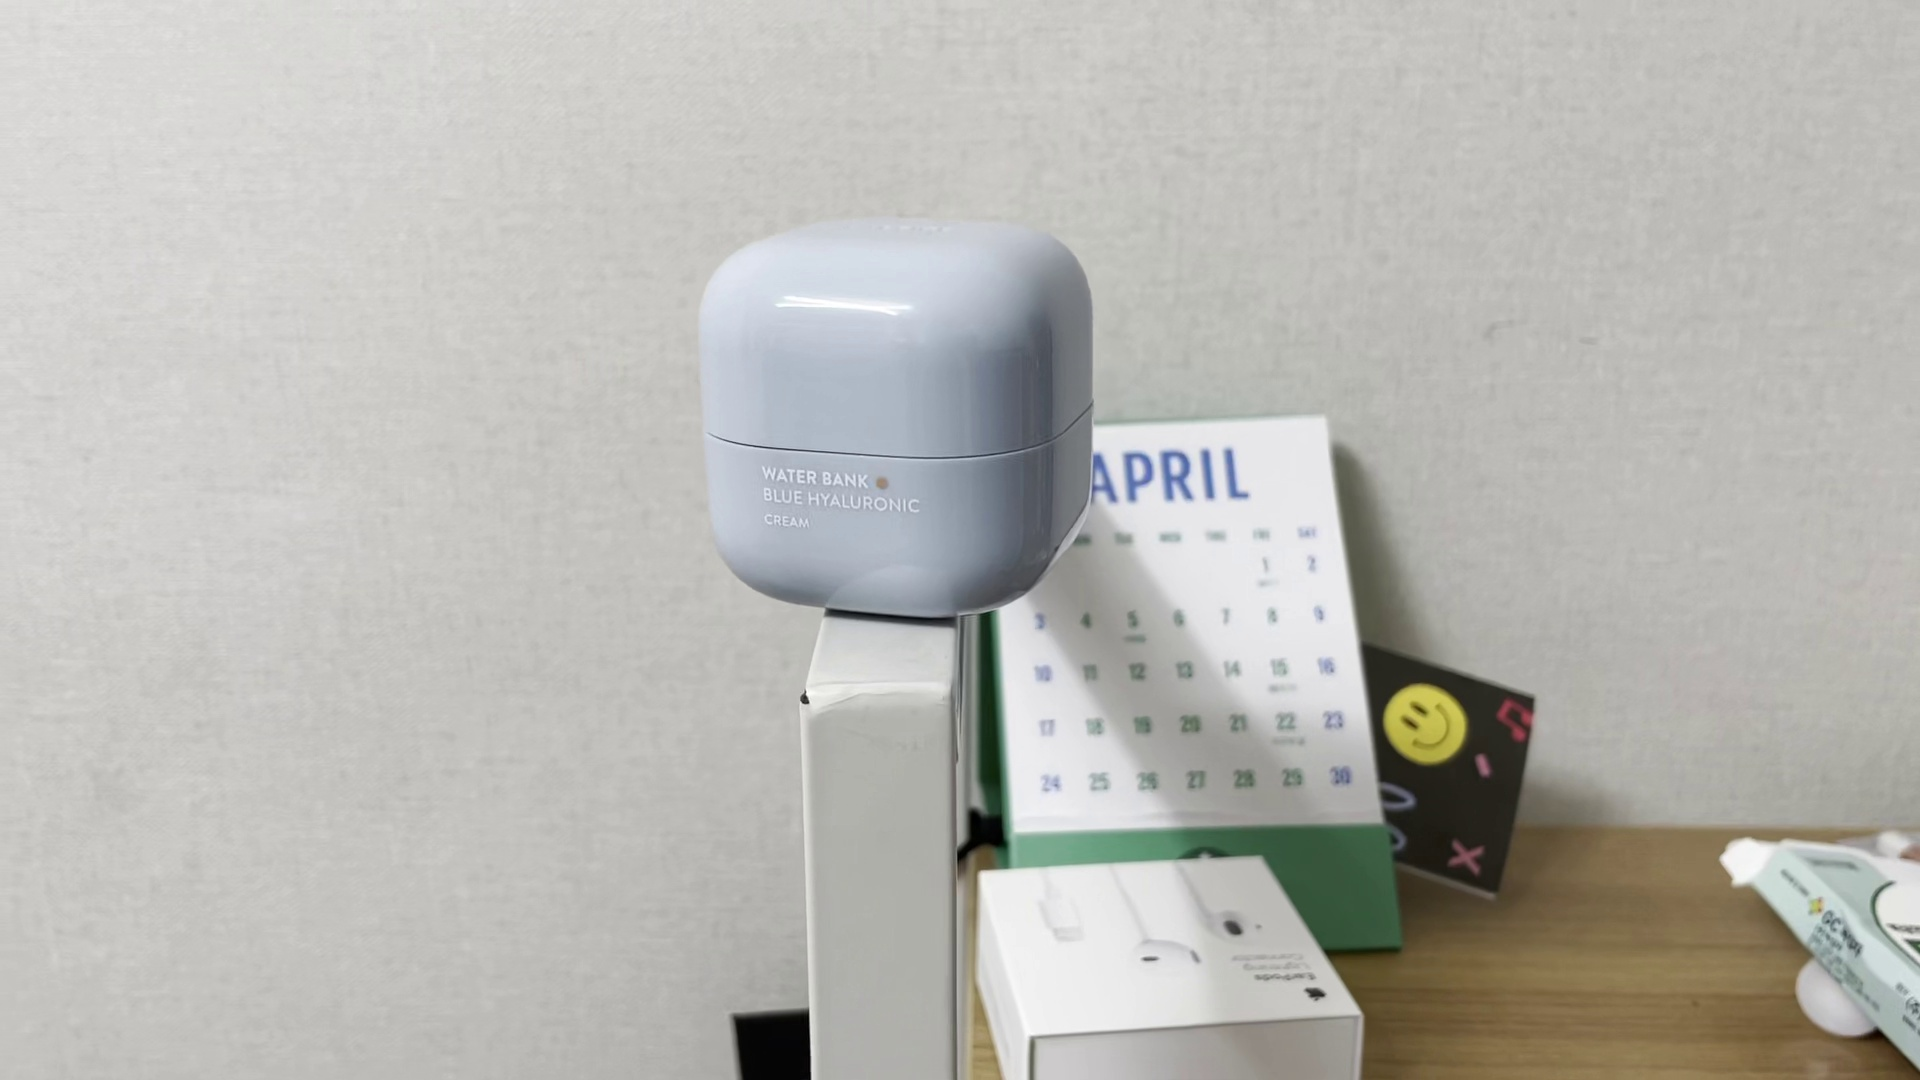cream: (698, 210, 1095, 616)
